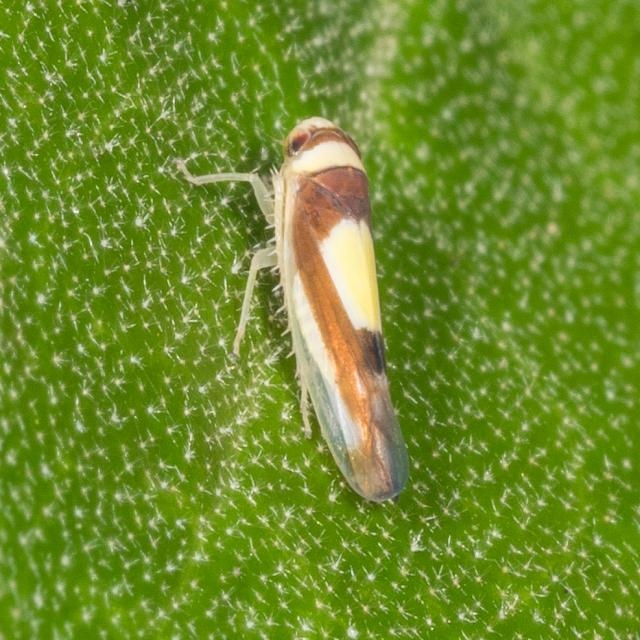Yechan: (158, 73, 414, 554)
